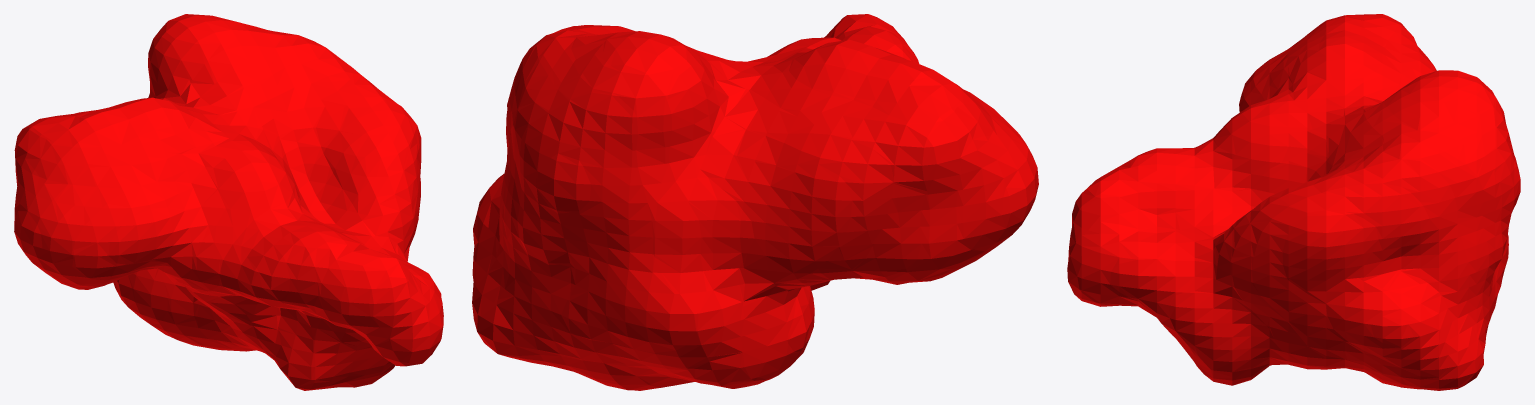
File: ribA_coarse.dae
The picture shows the model from 3 angles, left to right: view 1: azimuth 30°, elevation 25°; view 2: azimuth 150°, elevation 25°; view 3: azimuth 270°, elevation 25°; orthographic projection. The views are drawn at different scales.
Visible parts, largest first — view 1: ribA; view 2: ribA; view 3: ribA.
Part boxes in pixels (left/top/right/bottom): ribA: left=14, top=14, right=443, bottom=390; ribA: left=472, top=14, right=1038, bottom=390; ribA: left=1067, top=14, right=1520, bottom=390.
Bounding box in the file's own units: 55.7 × 39.51 × 56.6.
